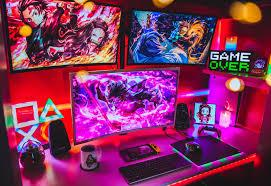keyboard: (118, 152, 192, 184)
